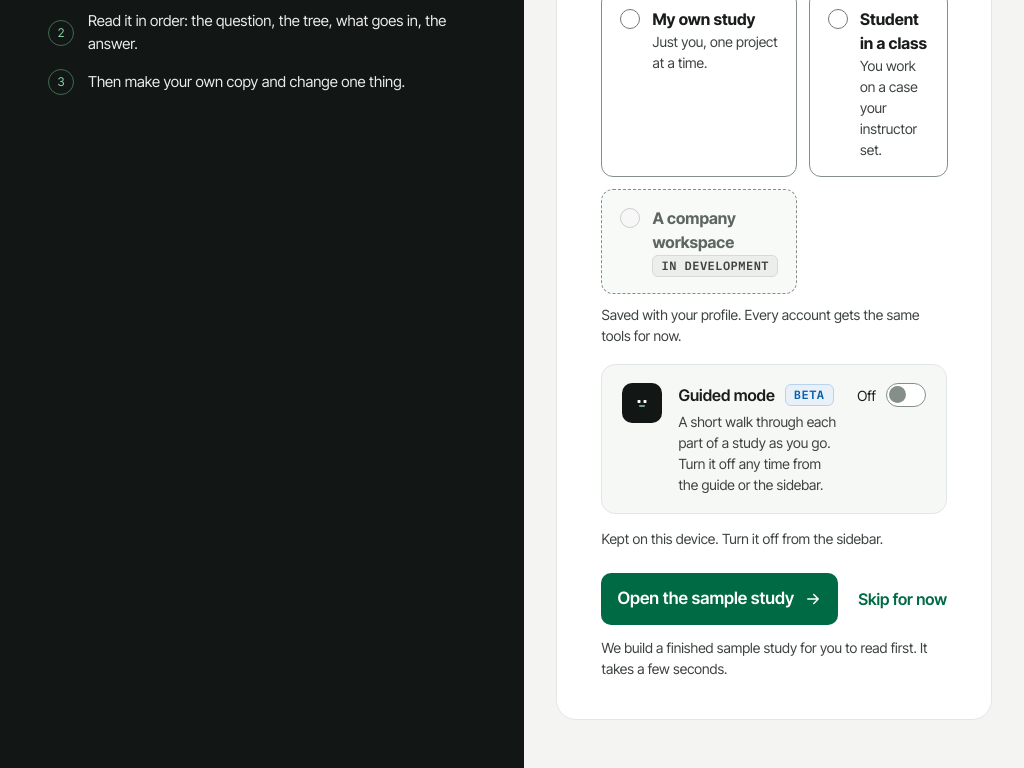
/auth/onboarding › a failed build keeps the answers: Try again, or an empty project instead
Later steps or results of the test are not shown.
(page scrolled)
Click the button "Open the sample study" at (720, 599), box [602,573,838,625]
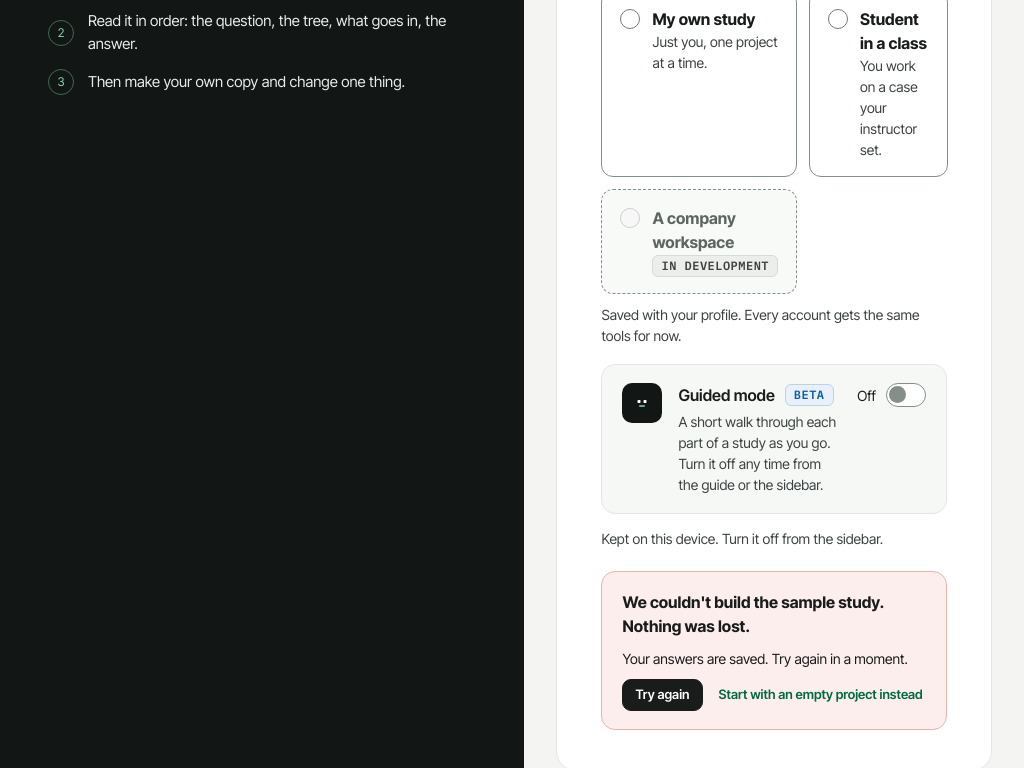
Now the text "We couldn't build the sample study. Nothing was lost." is shown, box [622,590,926,638]
Now the text "Your answers are saved. Try again in a moment." is shown, box [622,648,926,669]
